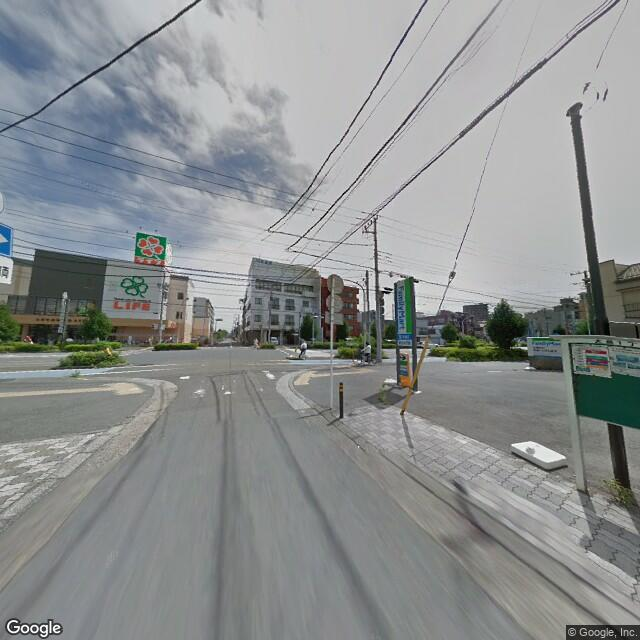family_mart: (395, 276, 414, 336), (528, 334, 562, 351)
